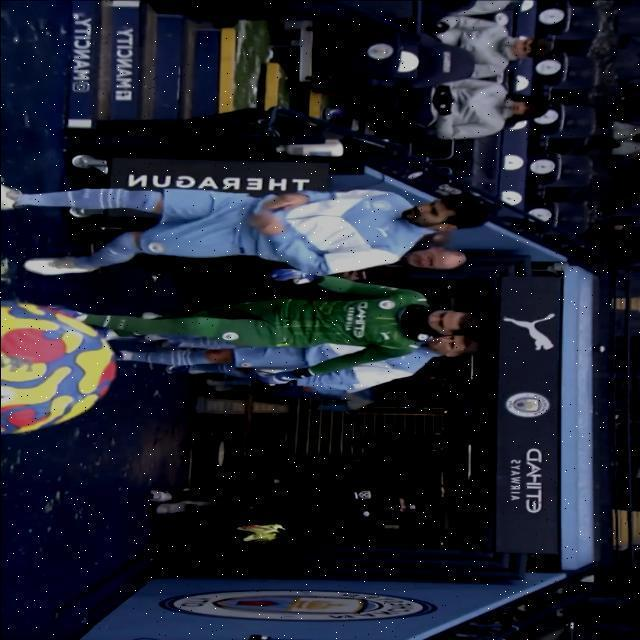player: (0, 168, 482, 272), (101, 273, 498, 365), (126, 336, 482, 390)
referee: (149, 467, 439, 534)
